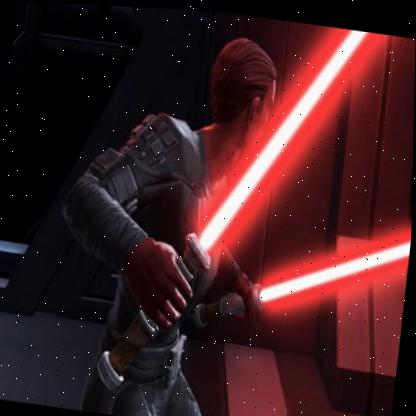sith_lightsaber: (86, 27, 395, 397), (184, 225, 411, 338)
